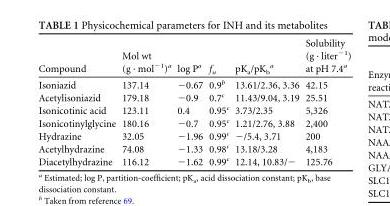table: (37, 37, 350, 166)
table column: (37, 37, 118, 166), (231, 37, 301, 166), (118, 37, 173, 166), (301, 37, 350, 166), (173, 37, 205, 166), (205, 37, 231, 166)
table column header: (37, 37, 350, 76)
table row: (37, 37, 350, 76), (37, 76, 350, 90), (37, 90, 350, 103), (37, 103, 350, 116), (37, 128, 350, 141), (37, 141, 350, 154), (37, 116, 350, 128), (37, 154, 350, 166)
